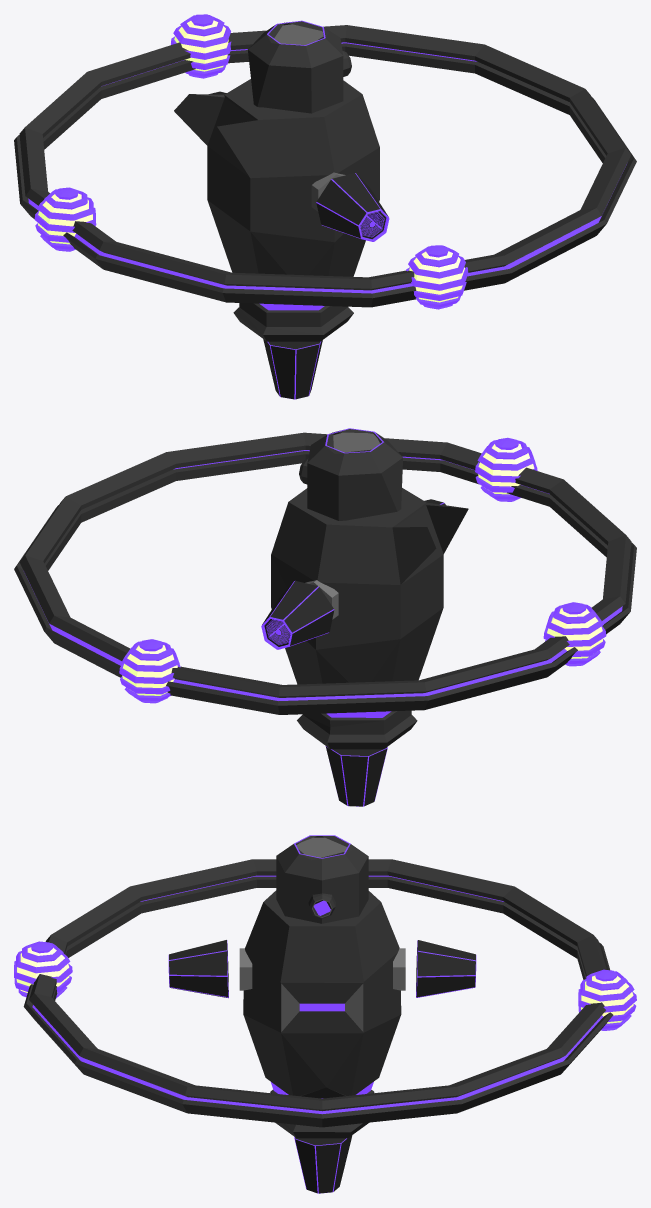
Rendered from Robot2_Low.fbx.
3 renders of one model, top to bottom at view 1: azimuth 30°, elevation 25°; view 2: azimuth 150°, elevation 25°; view 3: azimuth 270°, elevation 25°, orthographic. The views are drawn at different scales.
Visible parts, largest first — view 1: Sphere.001, Cylinder, Cylinder.003, Cylinder.005, Cylinder.002, Cylinder.001; view 2: Sphere.001, Cylinder, Cylinder.003, Cylinder.006, Cylinder.002, Cylinder.007; view 3: Sphere.001, Cylinder, Cylinder.003, Cylinder.005, Cylinder.006, Cylinder.002, Cylinder.012, Cylinder.010.
Part boxes in pixels (box(x1,y1,x2,y2)): Sphere.001: box(14, 14, 636, 309); Cylinder: box(174, 79, 379, 341); Cylinder.003: box(247, 21, 343, 113); Cylinder.005: box(316, 173, 388, 239); Cylinder.002: box(263, 339, 322, 399); Cylinder.001: box(316, 173, 389, 241); Sphere.001: box(14, 432, 636, 714); Cylinder: box(271, 488, 468, 749); Cylinder.003: box(307, 429, 402, 520); Cylinder.006: box(262, 581, 334, 646); Cylinder.002: box(326, 746, 387, 806); Cylinder.007: box(261, 581, 334, 649); Sphere.001: box(14, 859, 636, 1127); Cylinder: box(243, 890, 401, 1138); Cylinder.003: box(276, 836, 368, 923); Cylinder.005: box(169, 940, 228, 997); Cylinder.006: box(416, 940, 475, 997); Cylinder.002: box(295, 1135, 352, 1193); Cylinder.012: box(239, 948, 252, 990); Cylinder.010: box(393, 948, 405, 990).
Size of the model in its own units: 353 by 220 by 362.
